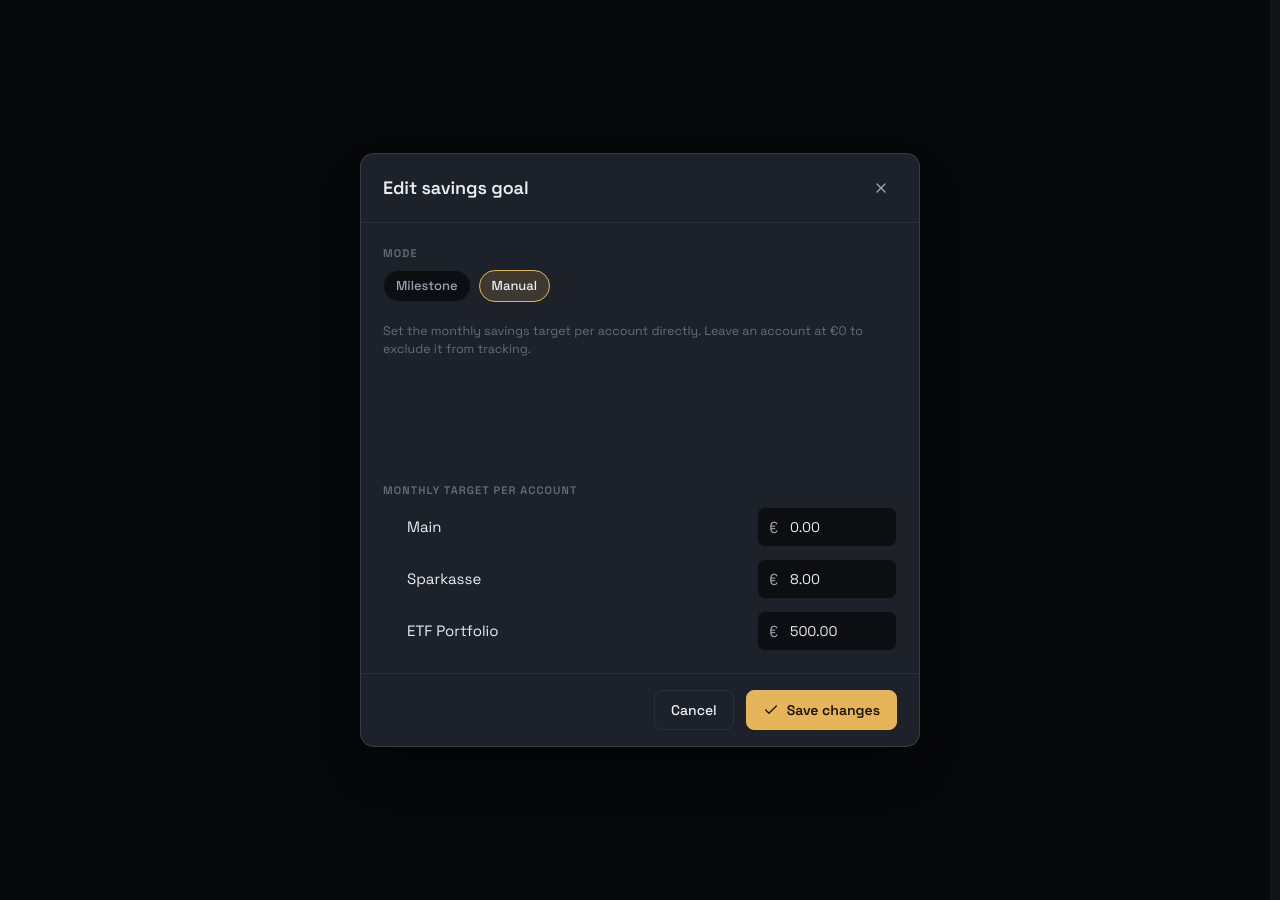
Scenario: SavingsGoalModal — Milestone mode › reveals a target-amount and a target-month input when Milestone is chosen
Click the button "Milestone" at (427, 286), box left=383, top=270, right=471, bottom=302
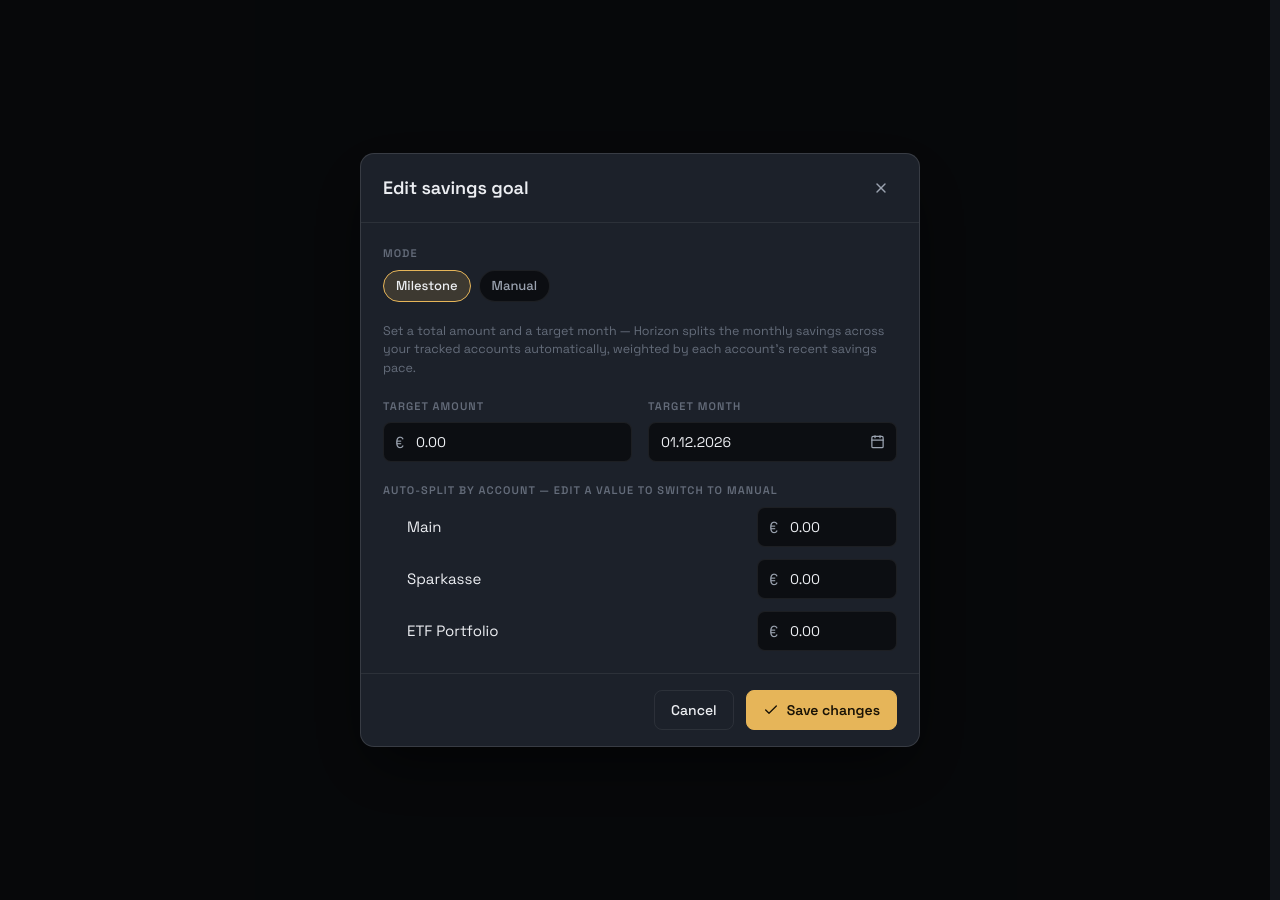
expect the field named "target amount" is shown: met, box left=383, top=422, right=632, bottom=462
expect the field named "target month" is shown: met, box left=648, top=422, right=897, bottom=462
